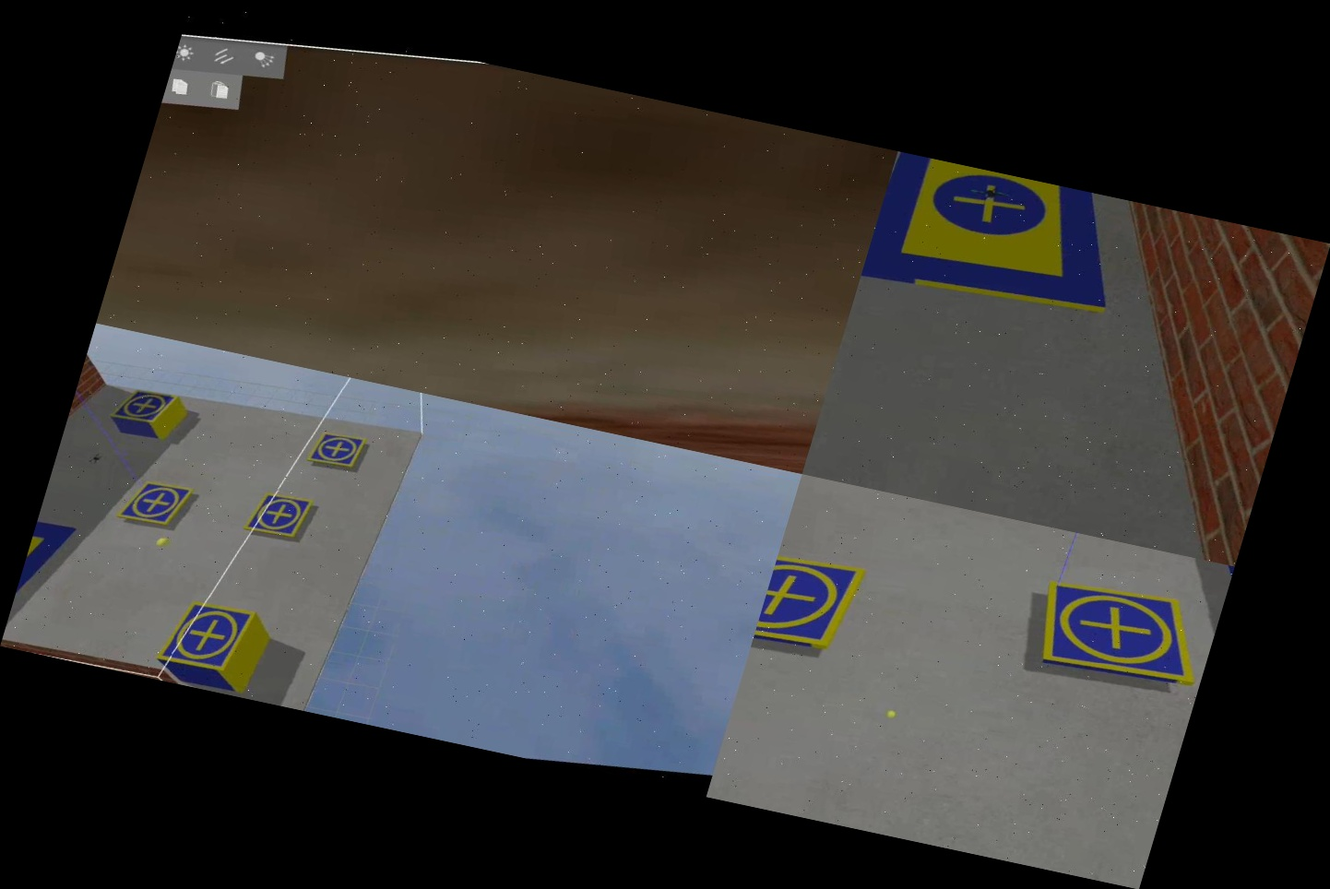large_base: (857, 151, 1140, 342), (0, 512, 96, 658)
small_base: (1017, 561, 1220, 707), (747, 545, 881, 679), (149, 590, 268, 682), (238, 483, 327, 551), (111, 472, 203, 534), (299, 421, 375, 477), (107, 379, 184, 433)
